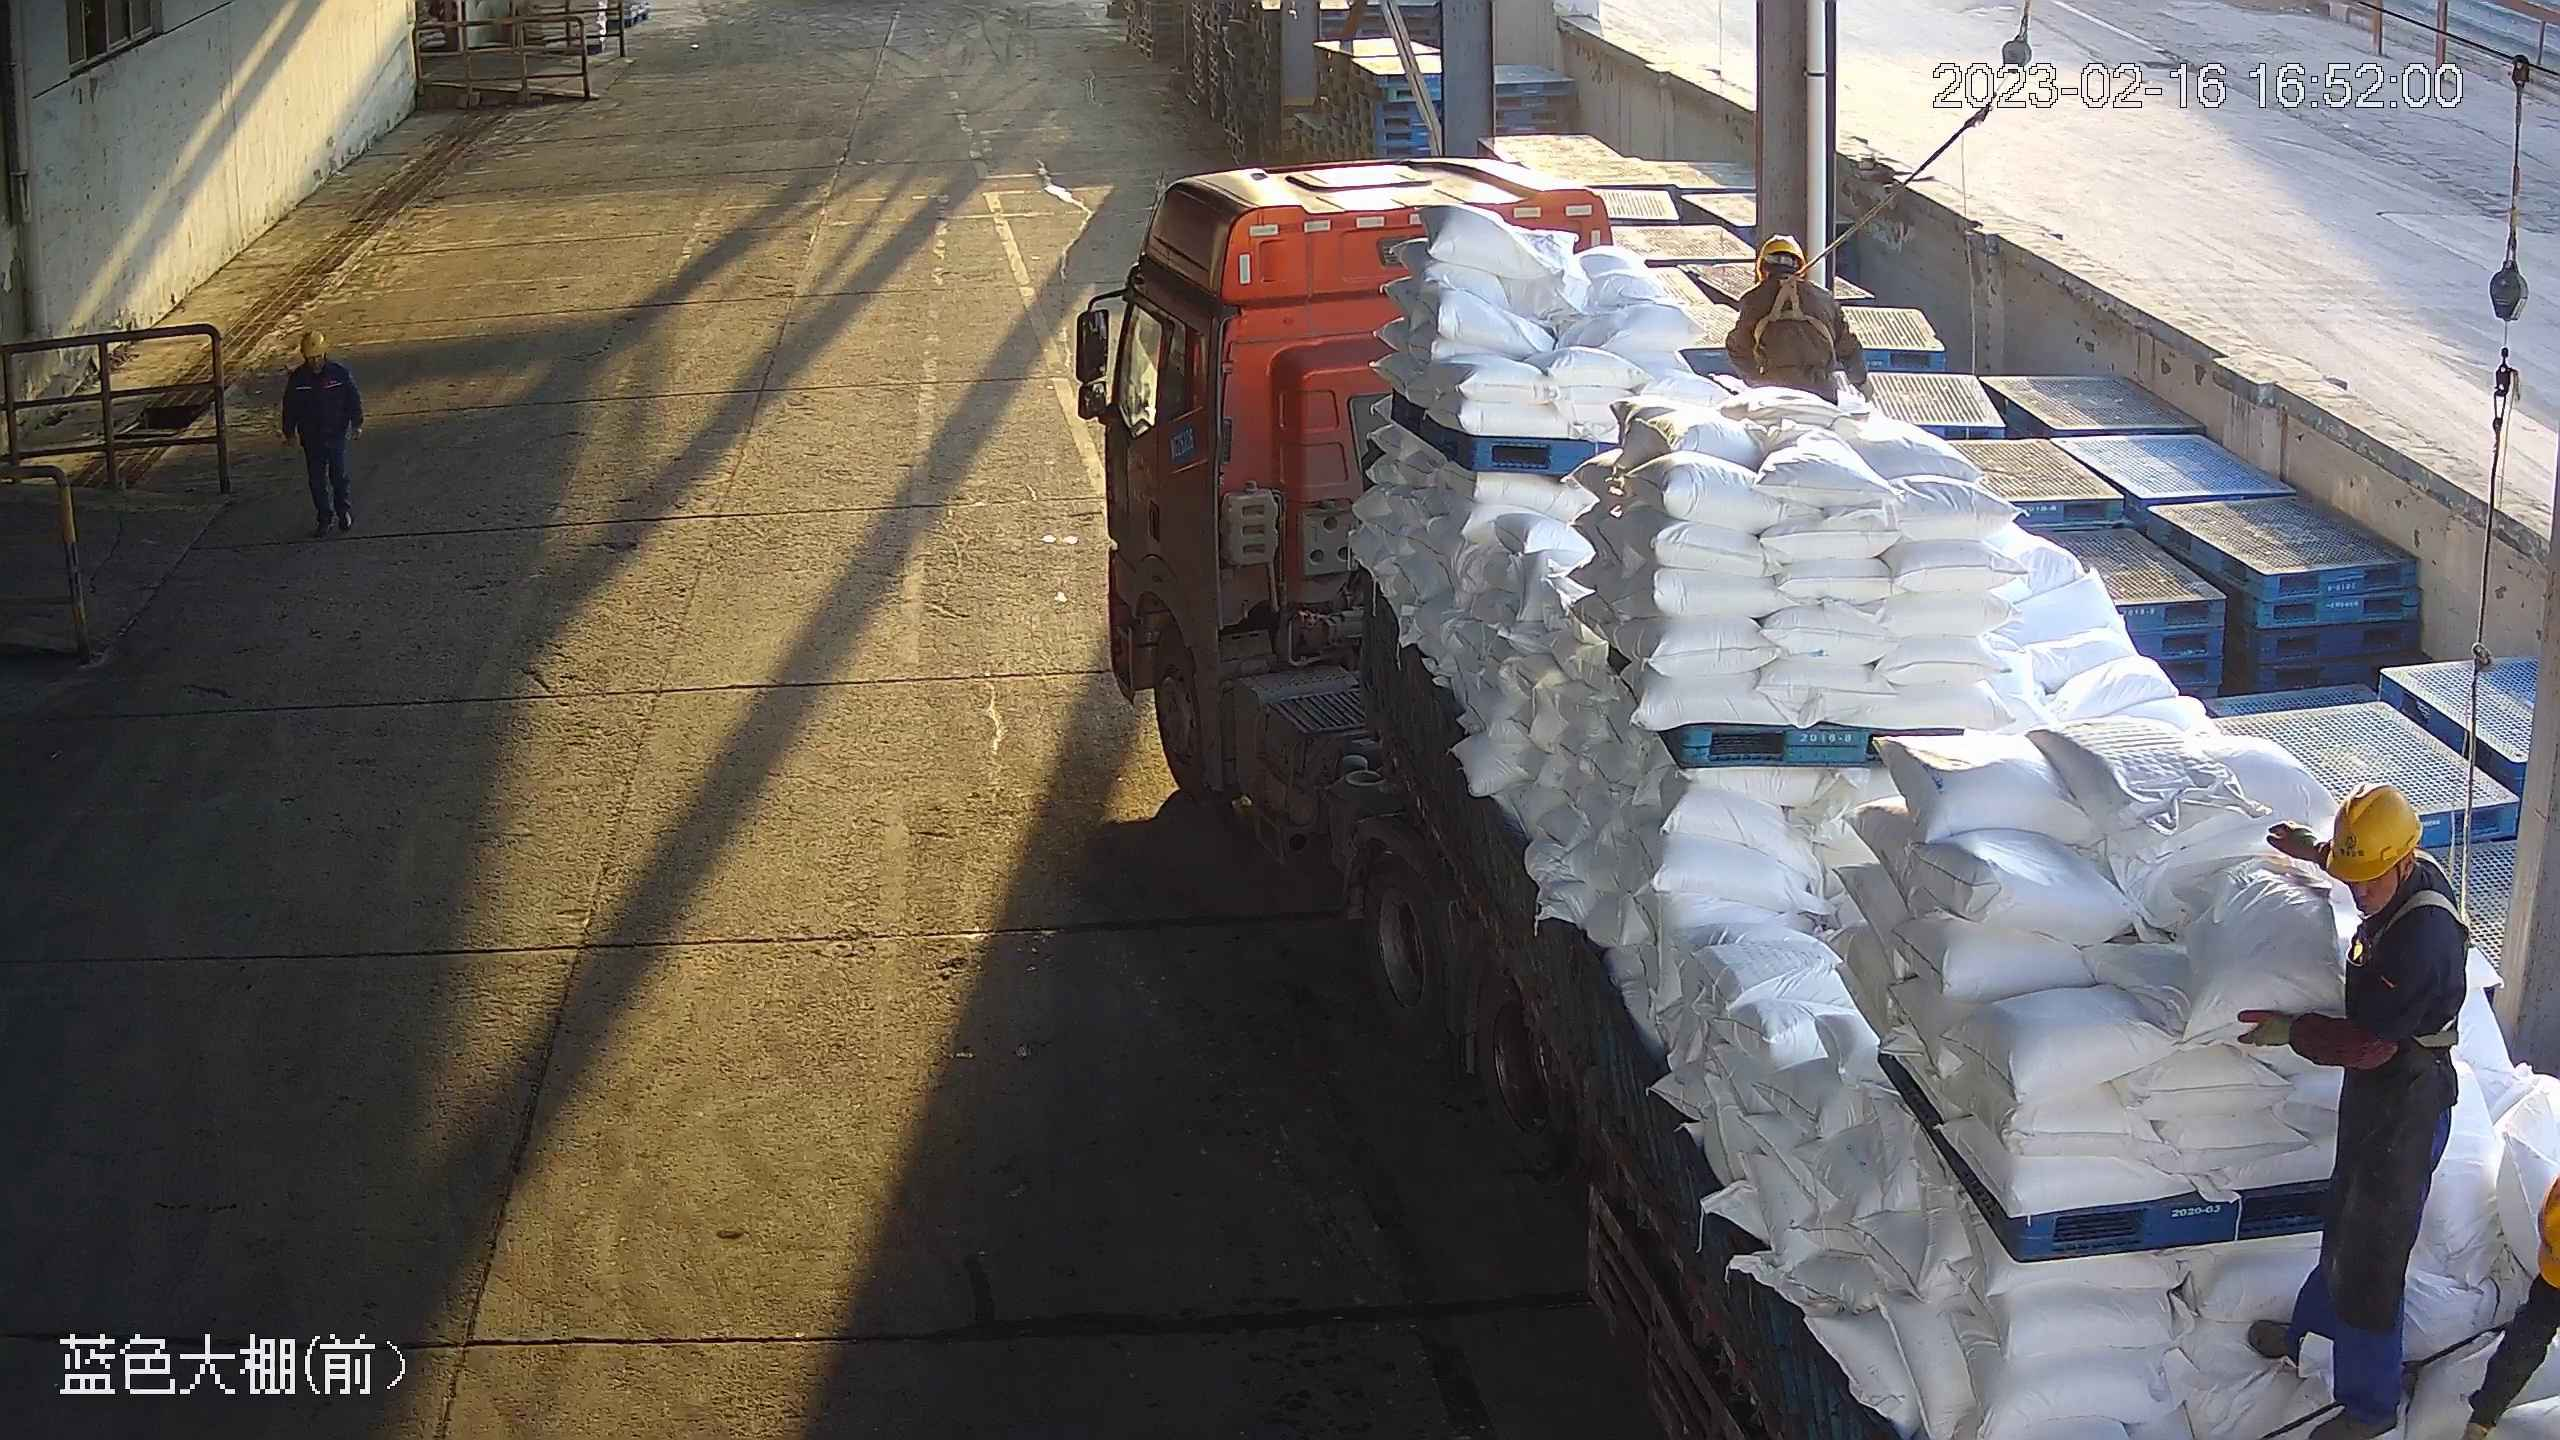belt: (2375, 884, 2477, 1070), (1751, 271, 1835, 349)
head: (2279, 781, 2475, 997), (1740, 227, 1861, 332), (290, 331, 357, 395)
helmet: (2322, 784, 2431, 884), (1749, 229, 1807, 284), (296, 332, 333, 355)
people: (2259, 779, 2466, 1440), (272, 332, 368, 531)
truck: (1077, 160, 2560, 1440)
